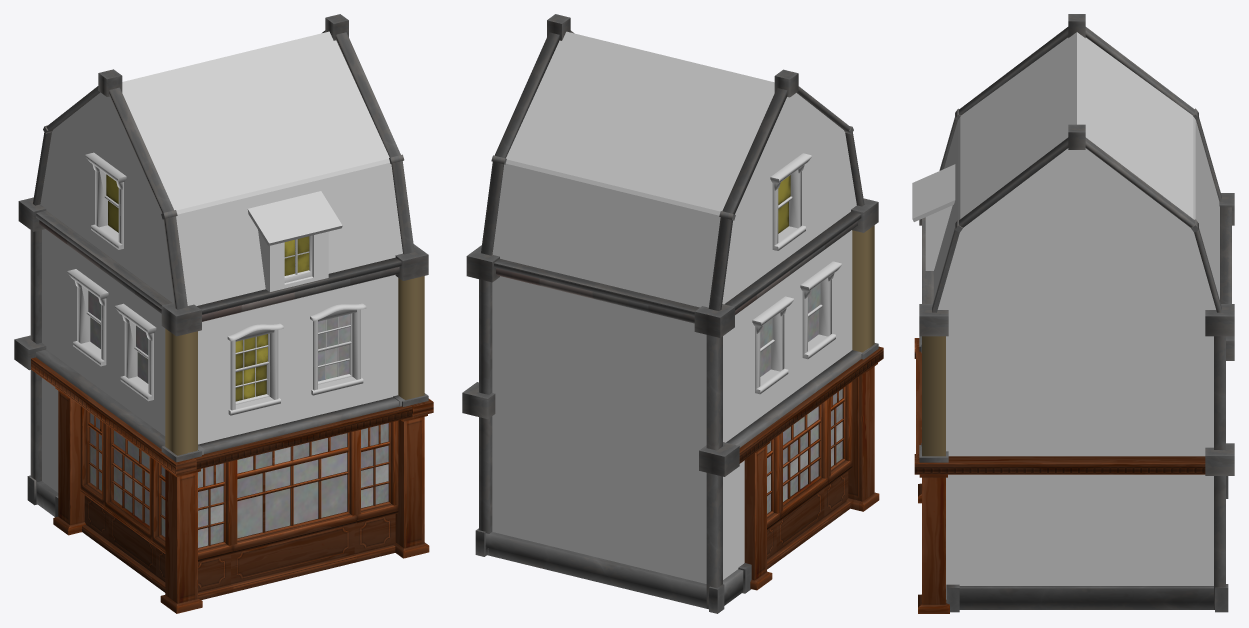
The model's file is Building_11.fbx.
The picture shows the model from 3 angles, left to right: view 1: azimuth 30°, elevation 25°; view 2: azimuth 150°, elevation 25°; view 3: azimuth 270°, elevation 25°; orthographic projection.
Visible parts, largest first — view 1: Wall_01.009, Roof_01.015, Wall_02.008, Wall_04.006, Roof_02; view 2: Wall_04.006, Roof_02, Wall_02.008, Wall_01.009, Roof_01.015; view 3: Wall_03.010, Roof_01.015, Roof_02, Wall_01.009, Wall_04.006.
Boxes of the visible parts, bbox=[...] form: Wall_01.009: bbox=[160, 275, 429, 613]; Roof_01.015: bbox=[98, 14, 428, 336]; Wall_02.008: bbox=[31, 92, 196, 592]; Wall_04.006: bbox=[14, 230, 46, 505]; Roof_02: bbox=[18, 14, 348, 231]; Wall_04.006: bbox=[462, 276, 739, 613]; Roof_02: bbox=[466, 14, 797, 337]; Wall_02.008: bbox=[722, 93, 883, 605]; Wall_01.009: bbox=[846, 225, 879, 511]; Roof_01.015: bbox=[547, 14, 878, 232]; Wall_03.010: bbox=[914, 148, 1215, 612]; Roof_01.015: bbox=[912, 14, 1085, 336]; Roof_02: bbox=[1068, 14, 1234, 336]; Wall_01.009: bbox=[916, 336, 949, 613]; Wall_04.006: bbox=[1205, 336, 1234, 612].
Size of what is drawn, in the model's own units: 6.34 by 11.12 by 6.76.
